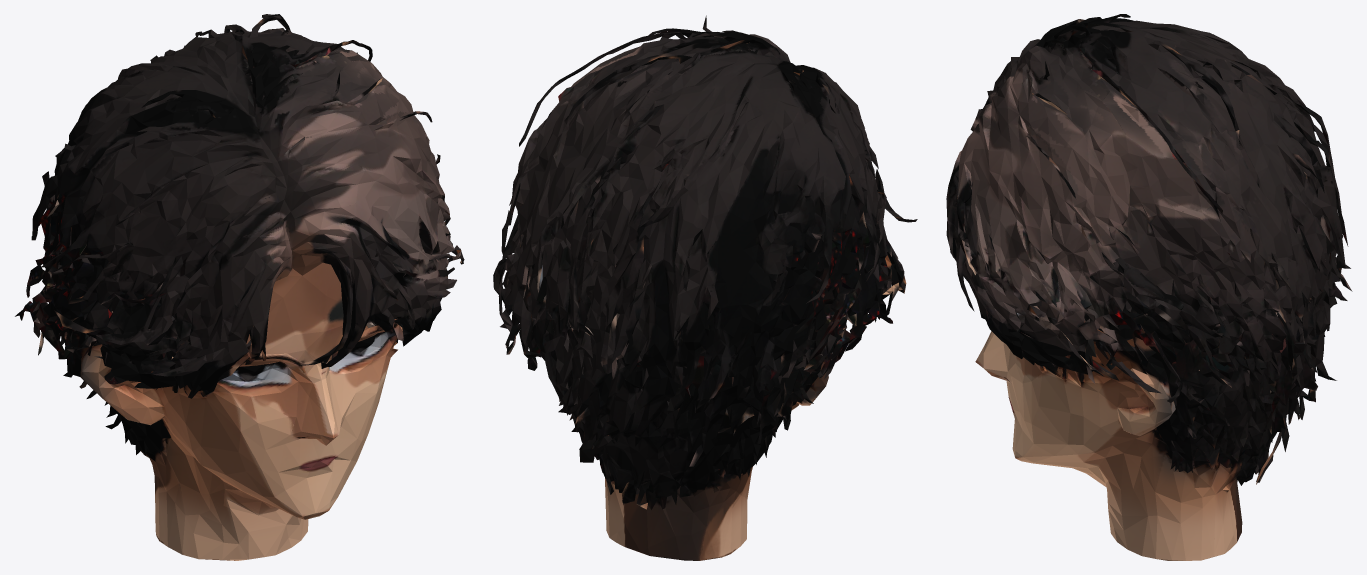
File: side_sailor_repaired_atlas.glb
3 renders of one model, left to right at view 1: azimuth 30°, elevation 25°; view 2: azimuth 150°, elevation 25°; view 3: azimuth 270°, elevation 25°, orthographic. The views are drawn at different scales.
Parts seen in each view (by area): view 1: temp_mesh.ply; view 2: temp_mesh.ply; view 3: temp_mesh.ply.
Part boxes in pixels (bbox=[...]): temp_mesh.ply: bbox=[15, 14, 464, 560]; temp_mesh.ply: bbox=[493, 15, 917, 560]; temp_mesh.ply: bbox=[946, 14, 1352, 560].
Size of the model in its own units: 1.6 by 1.97 by 1.46.
Materials: 1 (1 with a texture image).
